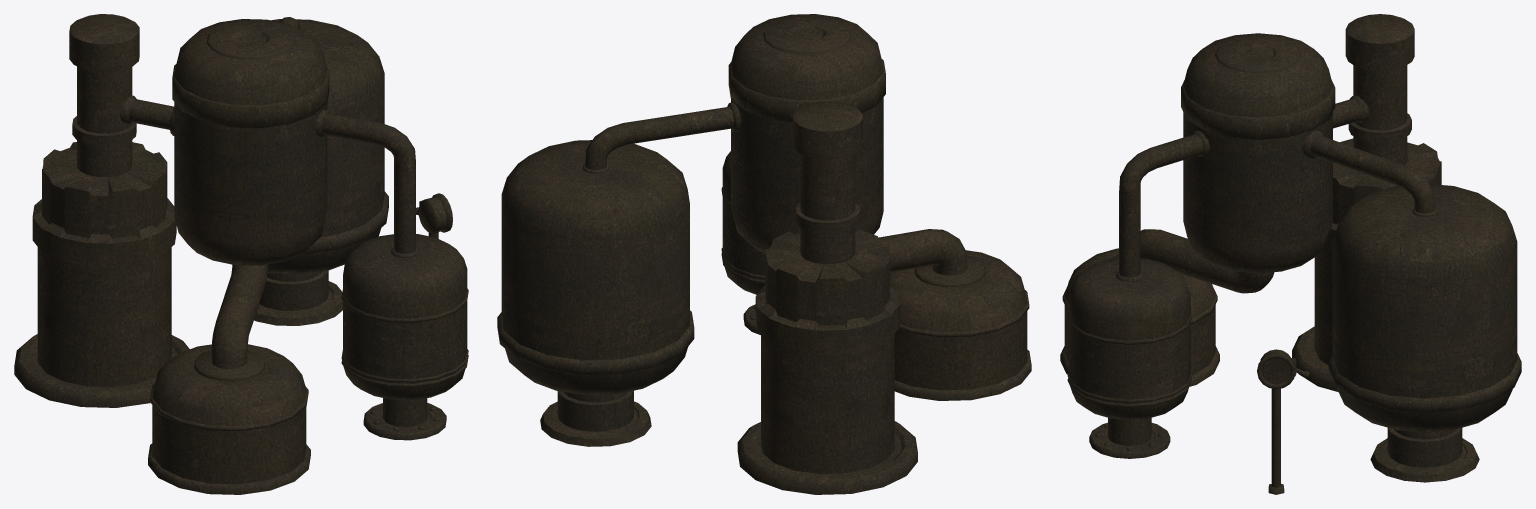
The model's file is tank_system_mx_1.obj.
3 renders of one model, left to right at view 1: azimuth 30°, elevation 25°; view 2: azimuth 150°, elevation 25°; view 3: azimuth 270°, elevation 25°, orthographic. The views are drawn at different scales.
Parts seen in each view (by area): view 1: tank_system_mx_1; view 2: tank_system_mx_1; view 3: tank_system_mx_1.
Boxes of the visible parts, x1,y1,x2,y2 form: tank_system_mx_1: (14, 14, 468, 494); tank_system_mx_1: (497, 14, 1031, 494); tank_system_mx_1: (1060, 14, 1521, 494).
Bounding box in the file's own units: 2.61 × 2.39 × 2.87.
